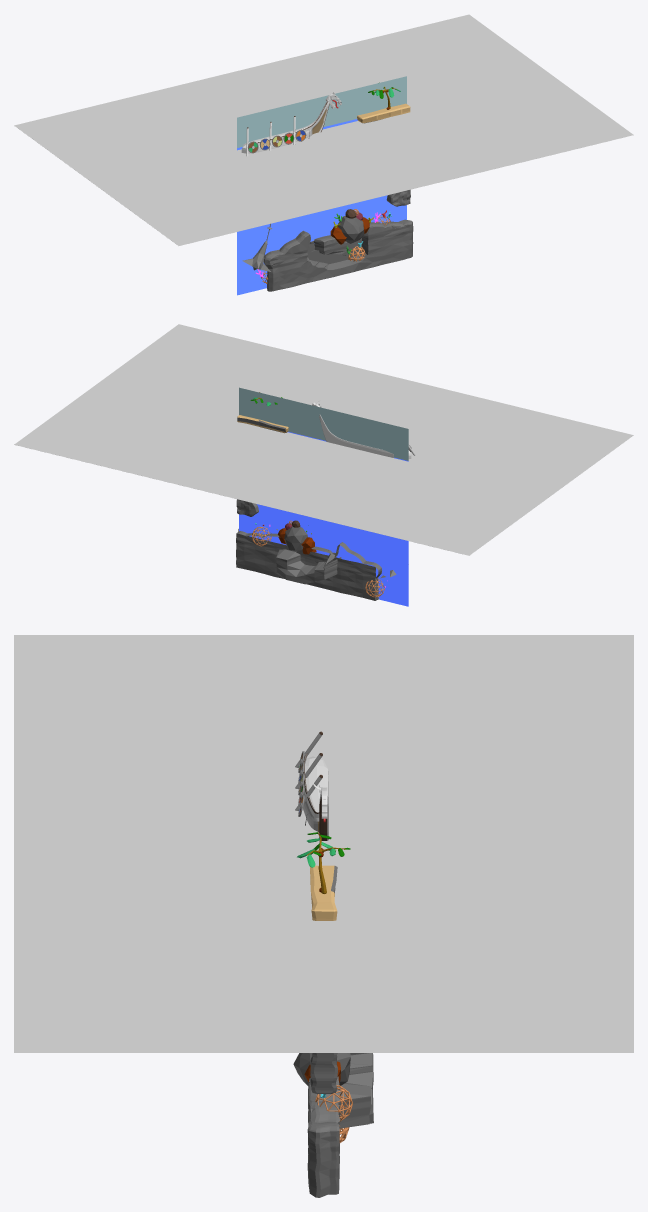
Rendered from OceanLevel.fbx.
3 renders of one model, top to bottom at view 1: azimuth 30°, elevation 25°; view 2: azimuth 150°, elevation 25°; view 3: azimuth 270°, elevation 25°, orthographic. The views are drawn at different scales.
Parts seen in each view (by area): view 1: Cube.004, RockFaces, Plane, Plane.002, Plane.001, Icosphere.002; view 2: Cube.004, RockFaces, Plane, Plane.002, Plane.001, Icosphere.002; view 3: Cube.004, RockFaces, Plane.001.
Boxes of the visible parts, bbox=[...] form: Cube.004: bbox=[14, 14, 633, 245]; RockFaces: bbox=[264, 103, 413, 291]; Plane: bbox=[237, 119, 406, 295]; Plane.002: bbox=[237, 76, 406, 147]; Plane.001: bbox=[241, 92, 341, 156]; Icosphere.002: bbox=[338, 216, 364, 243]; Cube.004: bbox=[14, 324, 633, 555]; RockFaces: bbox=[236, 415, 381, 600]; Plane: bbox=[239, 431, 408, 606]; Plane.002: bbox=[239, 387, 408, 460]; Plane.001: bbox=[312, 401, 415, 458]; Icosphere.002: bbox=[284, 526, 307, 551]; Cube.004: bbox=[14, 635, 633, 1052]; RockFaces: bbox=[307, 865, 373, 1197]; Plane.001: bbox=[295, 731, 328, 840].
Size of the model in its own units: 20088 by 7699 by 12596.
